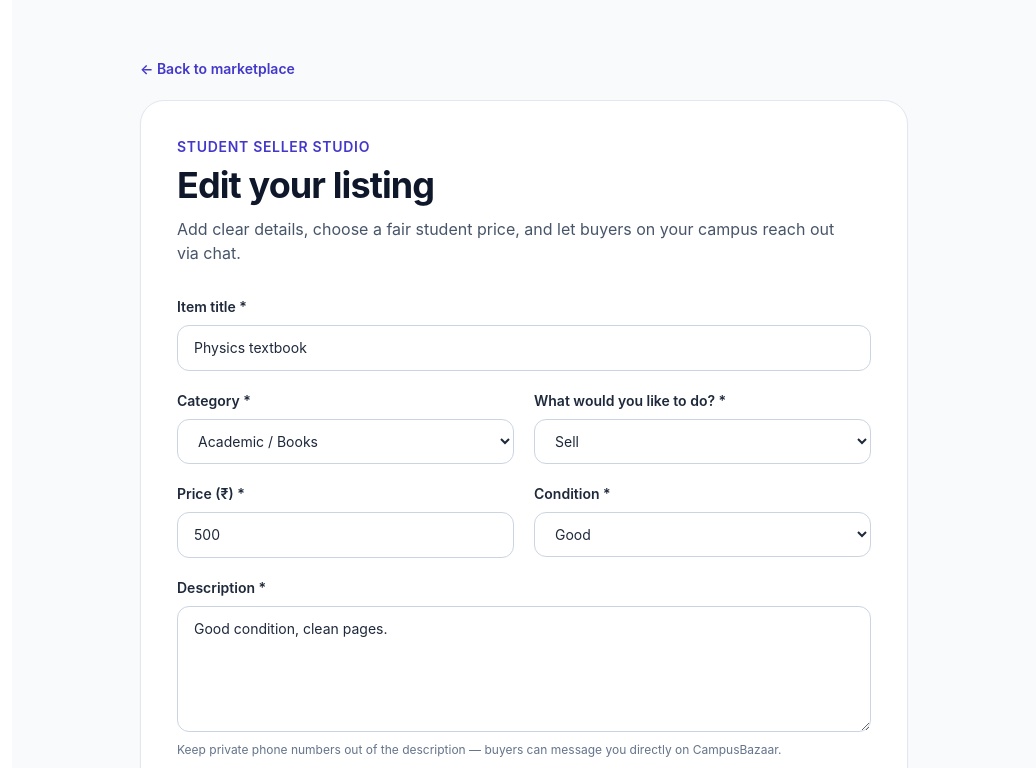
Scenario: Sell item form › loads and updates only the authenticated owner’s listing
Replace the text in the field labelled "Item title *" with "Updated physics textbook" at (524, 348), box top-left (177, 325), bottom-right (871, 371)
(page scrolled)
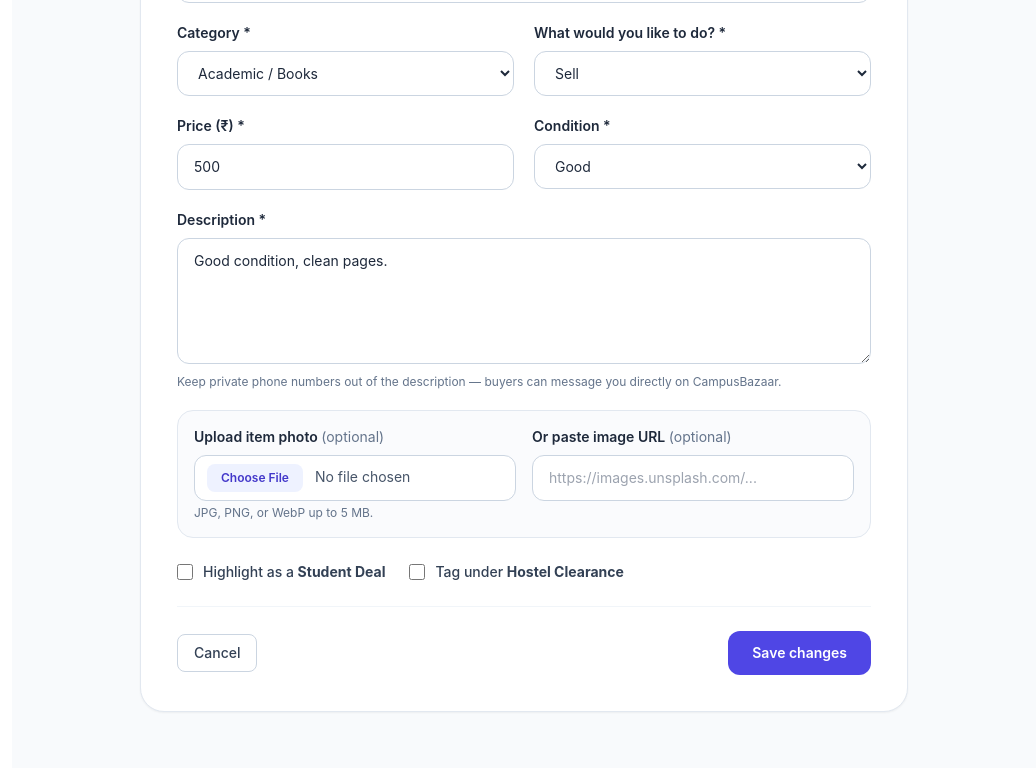
Click the button "Save changes".
click(800, 653)  # box top-left (728, 631), bottom-right (871, 675)
(page scrolled)
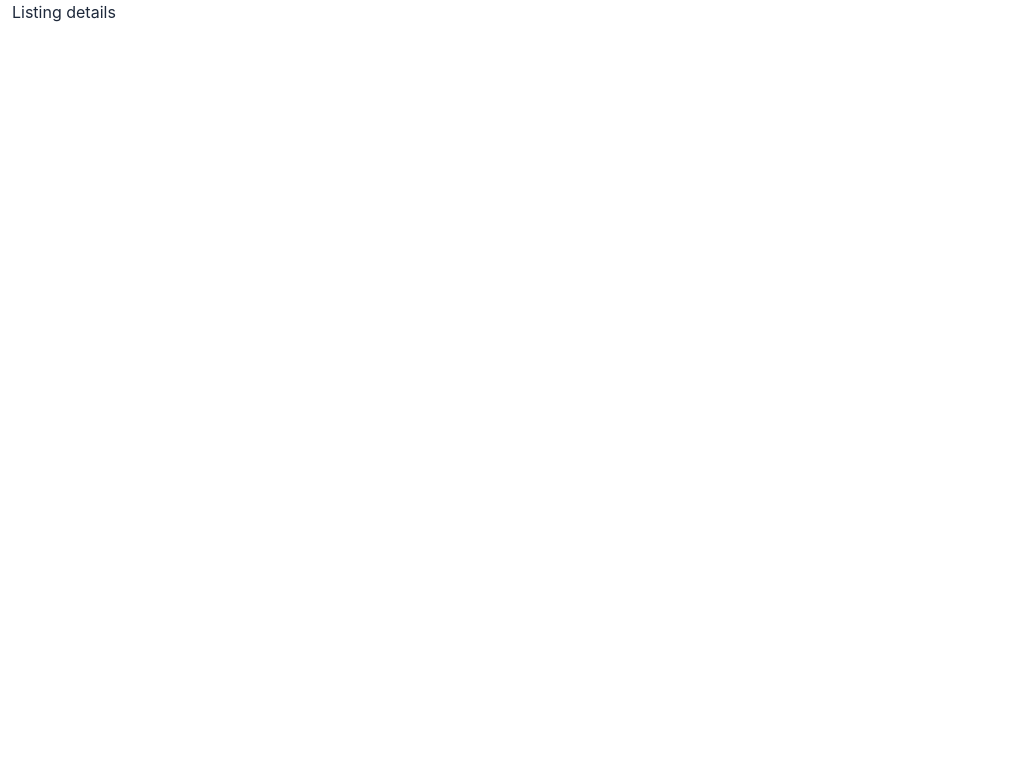
Expected: the heading "Listing details" is shown, top-left (12, 2), bottom-right (116, 22)
